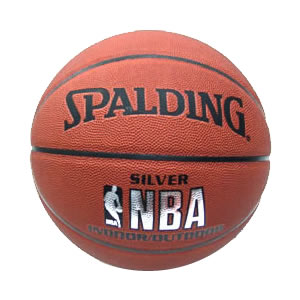basketball: (31, 30, 271, 271)
